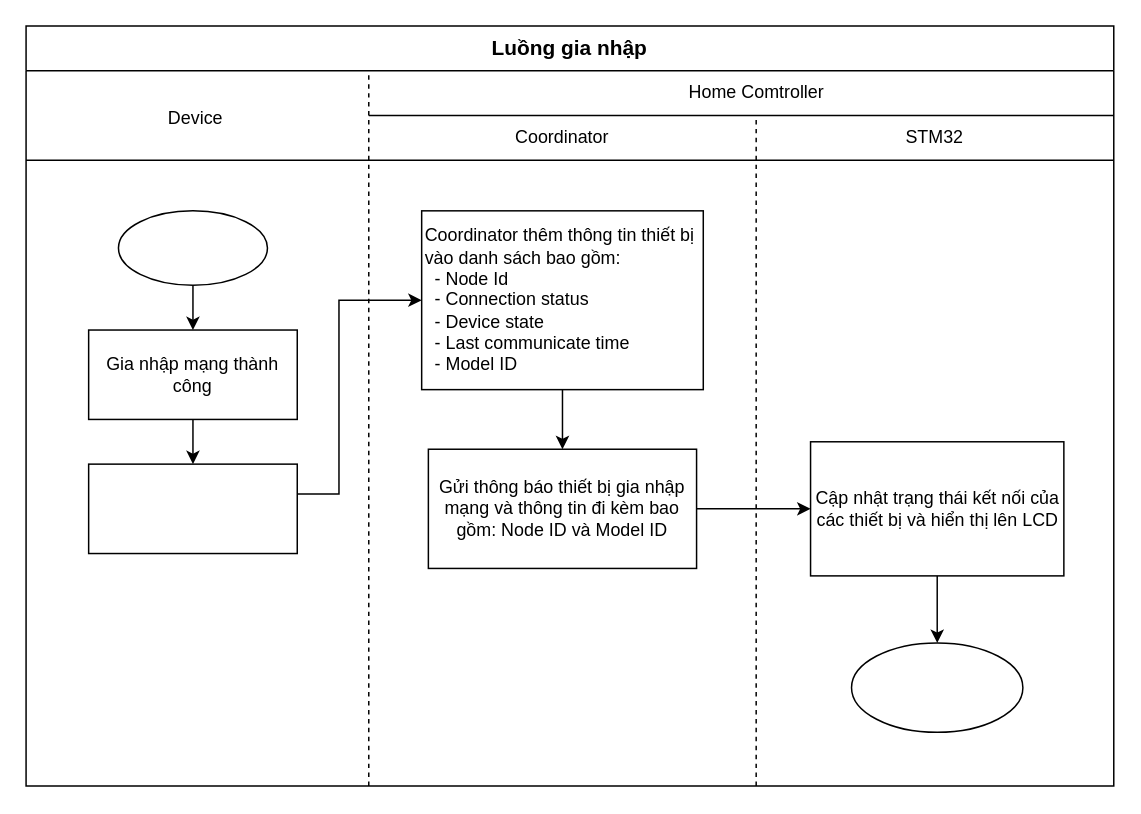
Image size: 1141x814. Some labels were removed from this diagram. Here are the shapes that lost their labels. From the top down, the centre of each, then its label:
At pixel 192 247: "BEGIN".
At pixel 192 508: "Gửi Model ID cho HC".
At pixel 936 686: "END".
